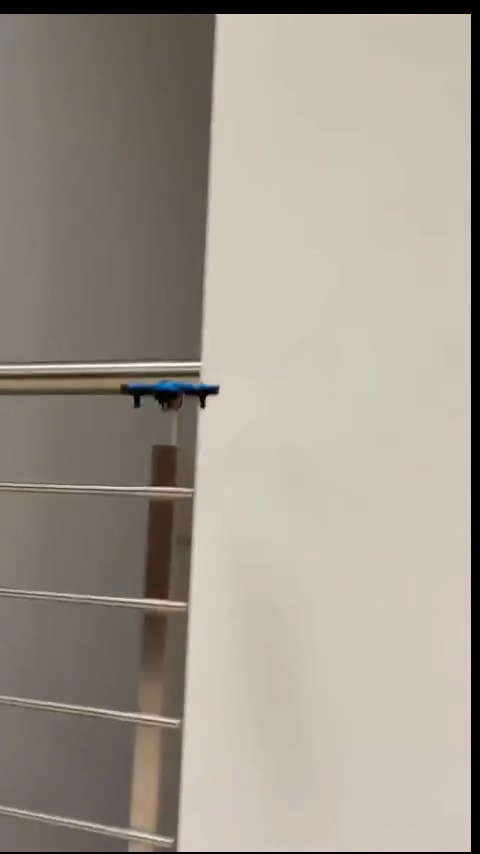drone: (126, 379, 221, 412)
